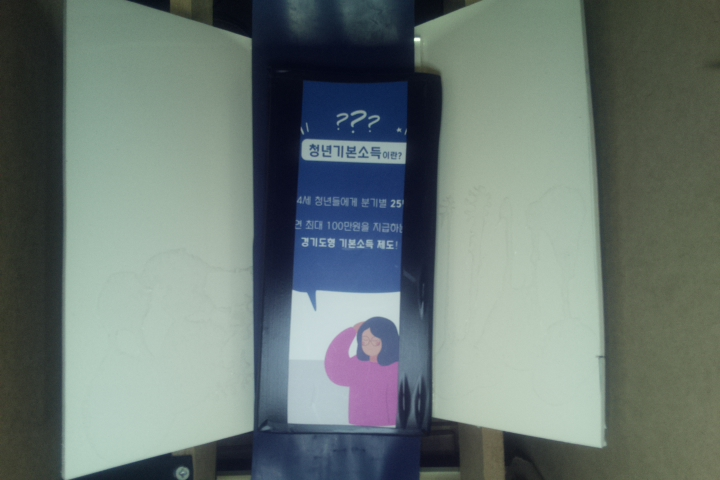book: (255, 71, 443, 439)
